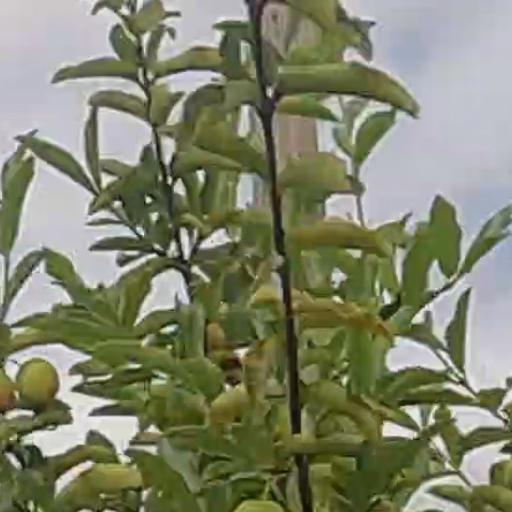acerola_verde: (18, 357, 58, 405)
